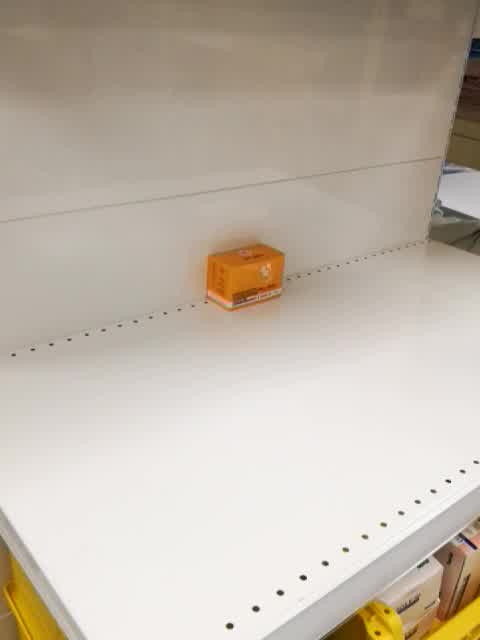jasminetea: (205, 242, 287, 313)
